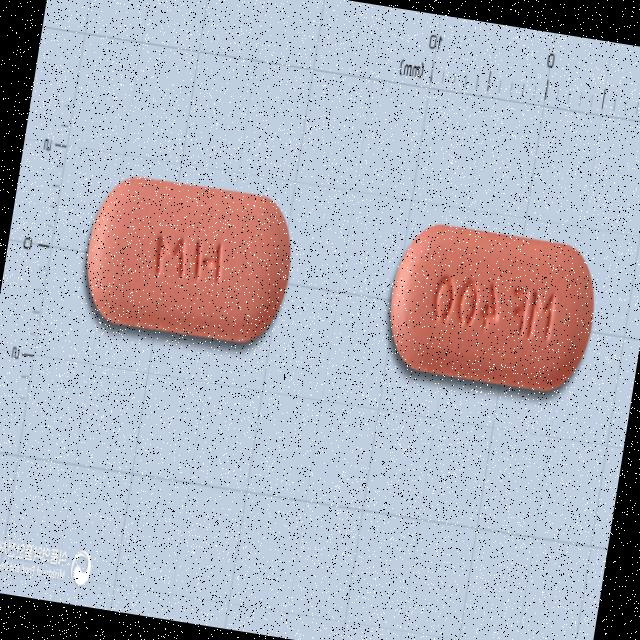Moroxacin: (380, 218, 604, 399), (77, 170, 300, 348)
